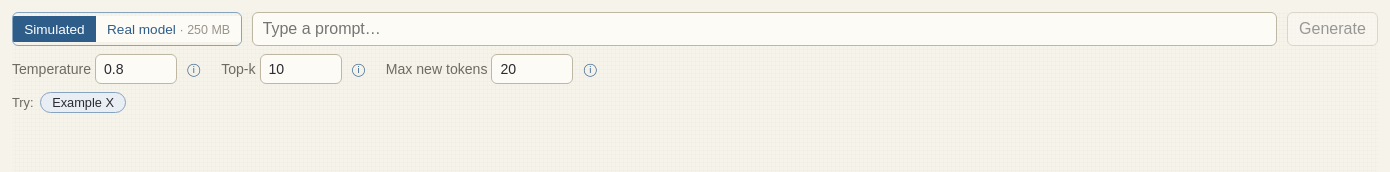
Test: example chips fill the prompt and start generation
Click the button with test id "example-chip" at [83, 102], box [40,92,126,113]
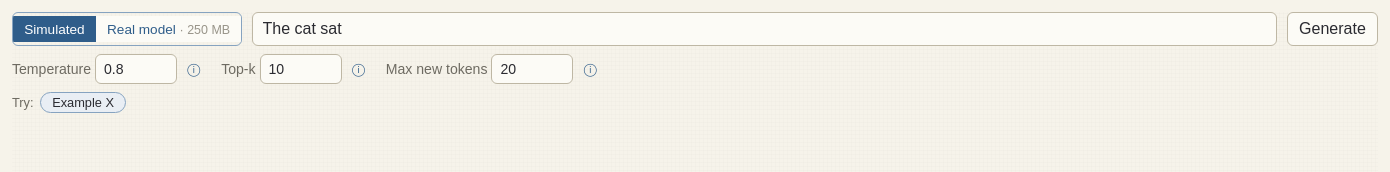
Check: the field with test id "prompt-input" holds "The cat sat", box [252,12,1277,46]
